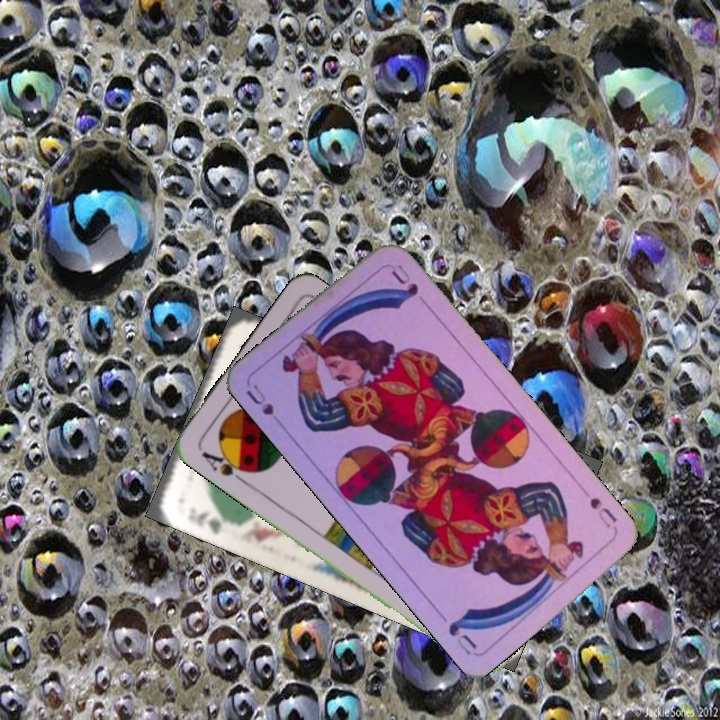GK: (184, 503, 234, 537)
SA: (197, 444, 254, 486)
SU: (241, 380, 288, 431), (585, 493, 620, 531)
